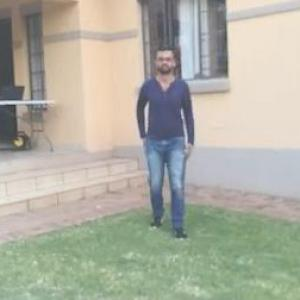follow: (130, 36, 192, 244)
